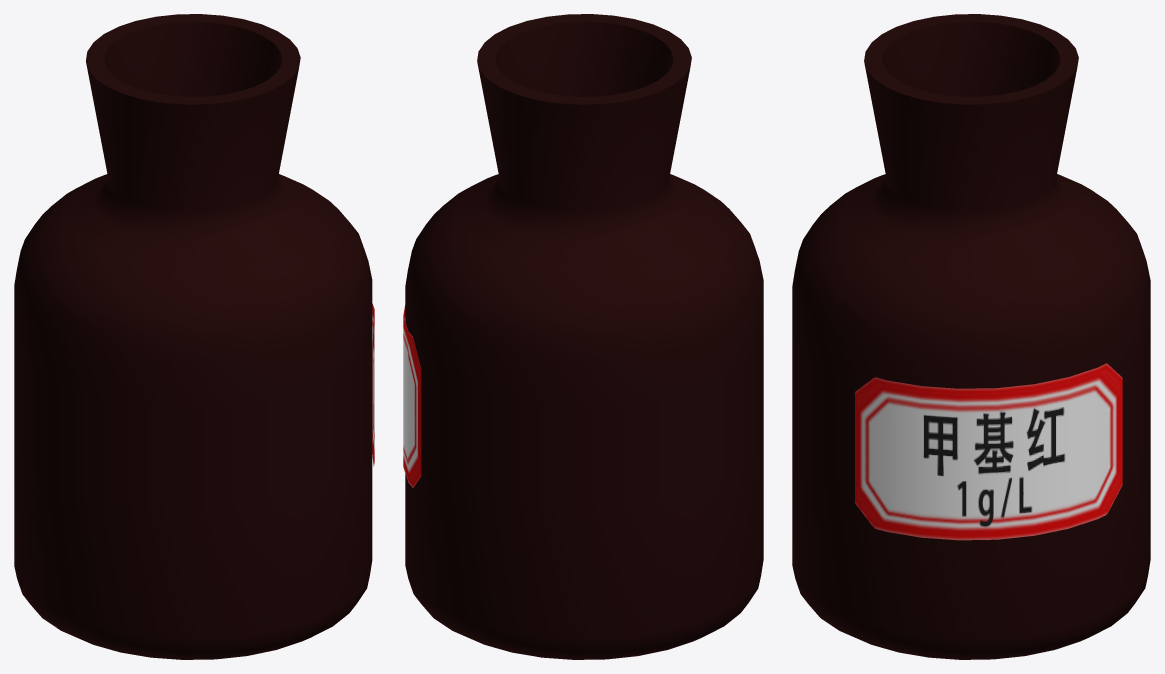
Rendered from SM_甲基红瓶子.fbx.
The picture shows the model from 3 angles, left to right: view 1: azimuth 30°, elevation 25°; view 2: azimuth 150°, elevation 25°; view 3: azimuth 270°, elevation 25°; orthographic projection.
Visible parts, largest first — view 1: SM_甲基红瓶子; view 2: SM_甲基红瓶子; view 3: SM_甲基红瓶子.
Part boxes in pixels (x1=…): SM_甲基红瓶子: x1=14, y1=14, x2=374, y2=659; SM_甲基红瓶子: x1=403, y1=14, x2=763, y2=659; SM_甲基红瓶子: x1=792, y1=14, x2=1150, y2=659.
Size of the model in its own units: 0.0515 by 0.085 by 0.0513.
